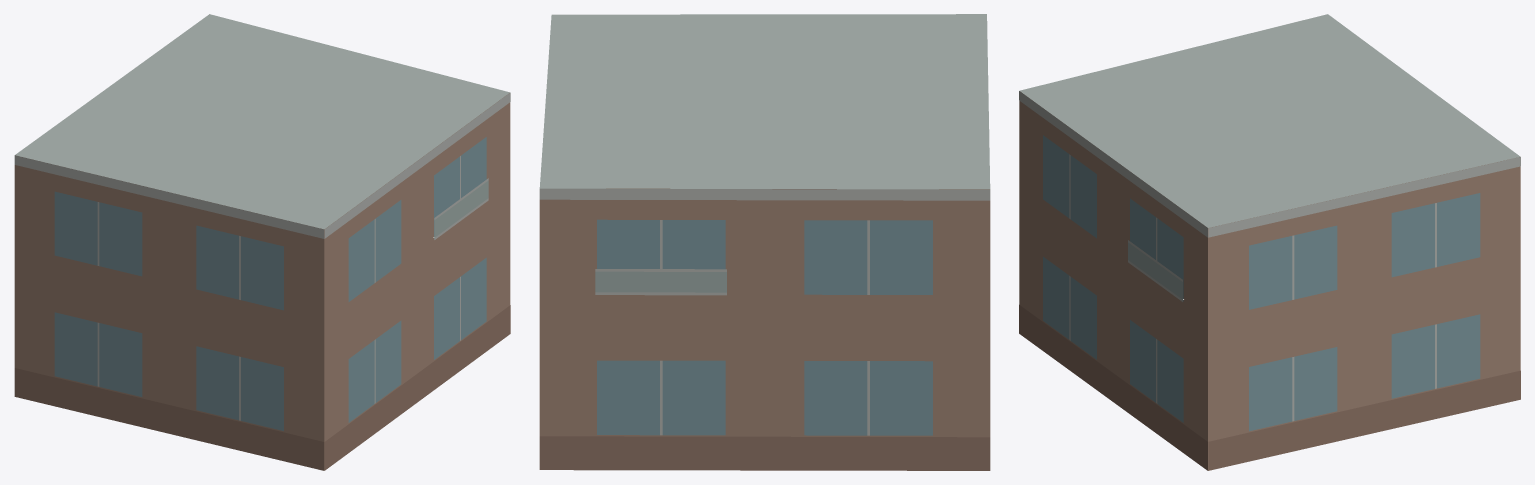
Rendered from survey-upis-32800347.glb.
The picture shows the model from 3 angles, left to right: view 1: azimuth 30°, elevation 25°; view 2: azimuth 150°, elevation 25°; view 3: azimuth 270°, elevation 25°; orthographic projection. The views are drawn at different scales.
Parts seen in each view (by area): view 1: survey-upis-32800347.tmp; view 2: survey-upis-32800347.tmp; view 3: survey-upis-32800347.tmp.
Boxes of the visible parts, x1,y1,x2,y2 form: survey-upis-32800347.tmp: [14, 14, 510, 470]; survey-upis-32800347.tmp: [539, 14, 990, 470]; survey-upis-32800347.tmp: [1019, 14, 1520, 470].
Size of the model in its own units: 11.54 by 6.1 by 11.43.
